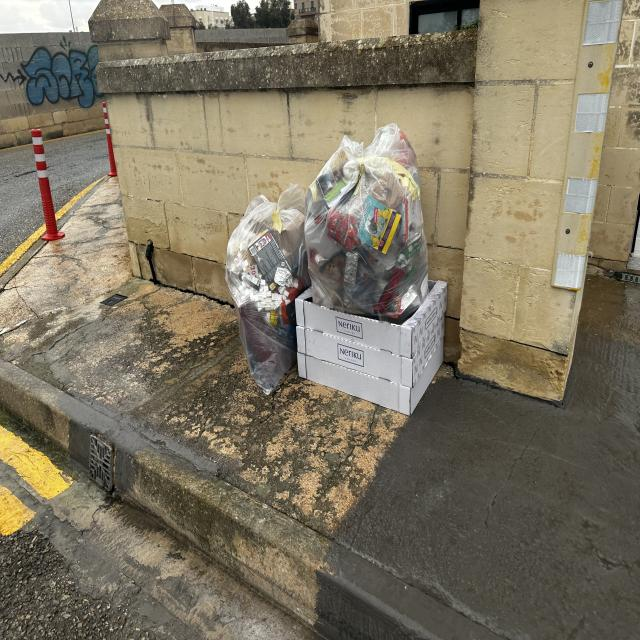Others Waste: (295, 279, 447, 415)
Recyclable Material -Grey Bags-: (225, 123, 430, 396)
